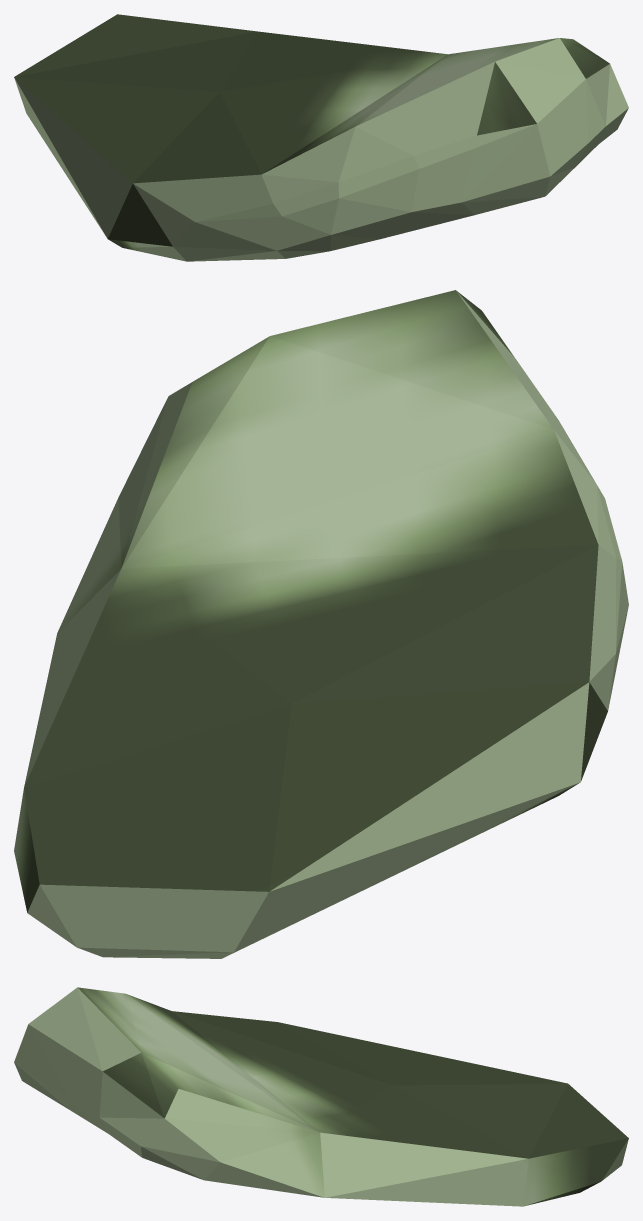
Rendered from EA_Swamp_tree6.004.glb.
3 renders of one model, top to bottom at view 1: azimuth 30°, elevation 25°; view 2: azimuth 150°, elevation 25°; view 3: azimuth 270°, elevation 25°, orthographic. The views are drawn at different scales.
Parts seen in each view (by area): view 1: EA_Swamp_tree6.004; view 2: EA_Swamp_tree6.004; view 3: EA_Swamp_tree6.004.
Boxes of the visible parts, box(x1,y1,x2,y2) form: EA_Swamp_tree6.004: box(14, 14, 628, 261); EA_Swamp_tree6.004: box(14, 290, 628, 958); EA_Swamp_tree6.004: box(14, 987, 628, 1206).
Size of the model in its own units: 3.51 by 2.13 by 5.74.
1 material, 1 textured.
